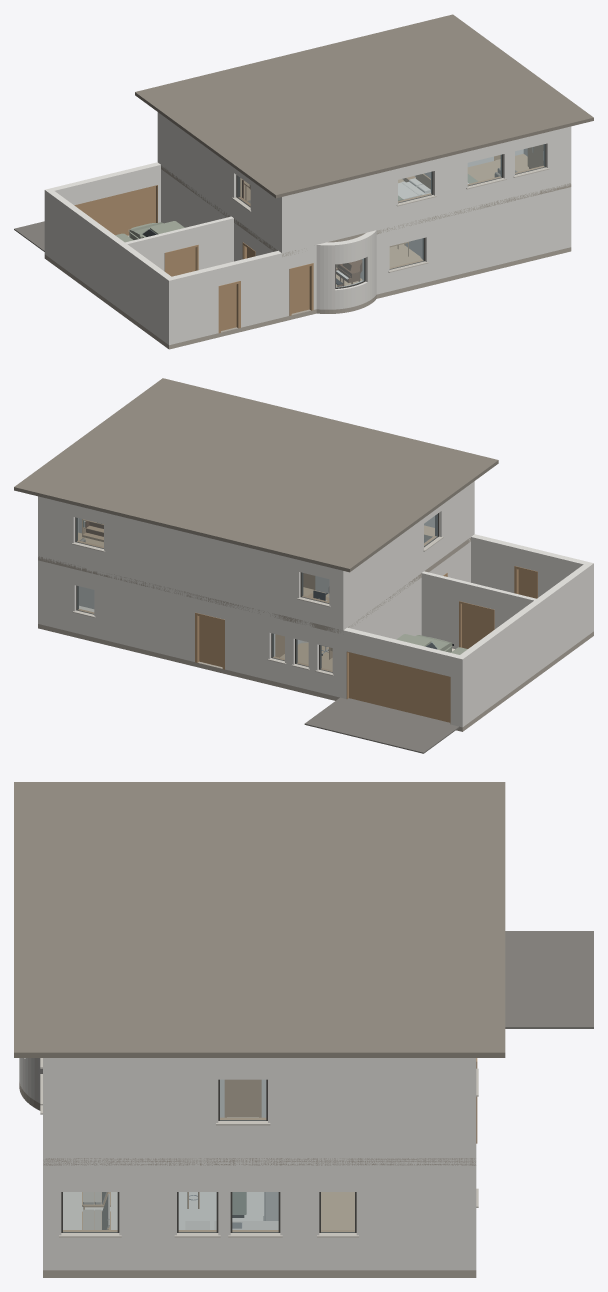
File: hillside-villa.glb
3 views of the same model, one above another, from view 1: azimuth 30°, elevation 25°; view 2: azimuth 150°, elevation 25°; view 3: azimuth 270°, elevation 25° (orthographic). The views are drawn at different scales.
Parts seen in each view (by area): view 1: roof:roof_1, wall:shell (×2), wall:w_wing_w, wall:w_wing_s, slab:slab (×2), wall:w_util, wall:w_wing_n, door:d_garage, door:d_living_garden, window:window_9:glass, window:window_3:glass, window:window_4:glass (+10 smaller); view 2: roof:roof_1, wall:shell (×2), wall:w_wing_w, door:d_garage, outdoor:g_drive, wall:w_util, wall:w_wing_n, wall:w_wing_s, slab:slab (×2), door:d_front, door:d_garage_util, window:window_2:glass (+2 smaller); view 3: roof:roof_1, wall:shell (×2), outdoor:g_drive, slab:slab (×2), window:window_6:glass (×2), window:window_7:glass, window:window_5:glass, floor:r_kitchen, window:window_8:glass, floor:r_service, door:d_enm, floor:r_terrace (+1 smaller).
Boxes of the visible parts, x1,y1,x2,y2 form: roof:roof_1: (135, 14, 593, 198); wall:shell (×2): (157, 112, 571, 317); wall:w_wing_w: (48, 191, 175, 345); wall:w_wing_s: (172, 250, 281, 343); slab:slab (×2): (44, 165, 571, 349); wall:w_util: (125, 216, 233, 271); wall:w_wing_n: (44, 162, 160, 256); door:d_garage: (75, 186, 155, 235); door:d_living_garden: (291, 266, 309, 313); window:window_9:glass: (390, 238, 423, 269); window:window_3:glass: (398, 172, 431, 202); window:window_4:glass: (468, 155, 501, 185); roof:roof_1: (14, 378, 498, 572); wall:shell (×2): (38, 481, 474, 697); wall:w_wing_w: (460, 561, 593, 724); door:d_garage: (349, 652, 450, 722); outdoor:g_drive: (304, 697, 459, 753); wall:w_util: (421, 571, 536, 649); wall:w_wing_n: (343, 627, 466, 727); wall:w_wing_s: (471, 534, 586, 597); slab:slab (×2): (38, 534, 593, 731); door:d_front: (199, 616, 222, 667); door:d_garage_util: (462, 604, 492, 648); window:window_2:glass: (76, 518, 103, 548); roof:roof_1: (14, 782, 505, 1057); wall:shell (×2): (19, 1058, 476, 1270); outdoor:g_drive: (505, 931, 593, 1028); slab:slab (×2): (19, 1082, 476, 1277); window:window_6:glass (×2): (179, 1080, 265, 1232); window:window_7:glass: (63, 1192, 117, 1232); window:window_5:glass: (232, 1192, 278, 1232); floor:r_kitchen: (178, 1192, 264, 1229); window:window_8:glass: (321, 1192, 354, 1232); floor:r_service: (321, 1192, 354, 1229); door:d_enm: (227, 1079, 258, 1117); floor:r_terrace: (63, 1192, 117, 1229).
Bounding box in the file's own units: 20.3 × 6.35 × 14.05.
